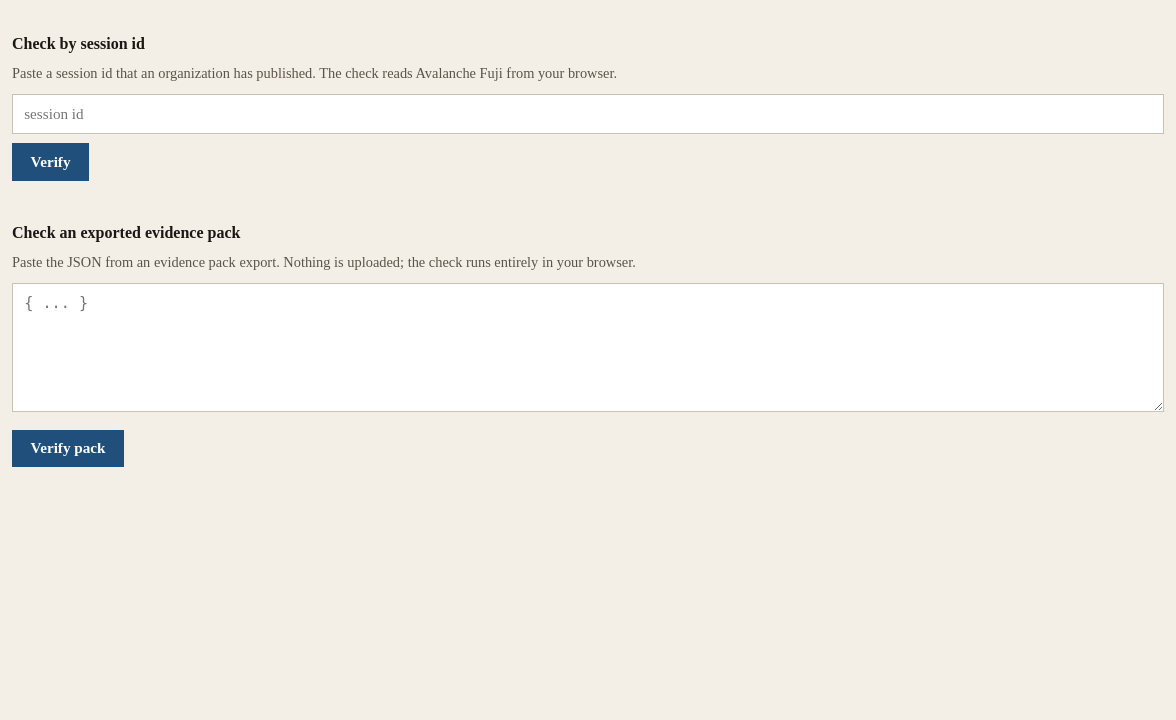
Test: VerifyClient › says it could not independently verify when nothing pins the contract, even though the bundle serves a valid-looking one
Type "s1" into the field labelled "Check by session id" at coordinates (588, 114), box [12, 94, 1164, 134]
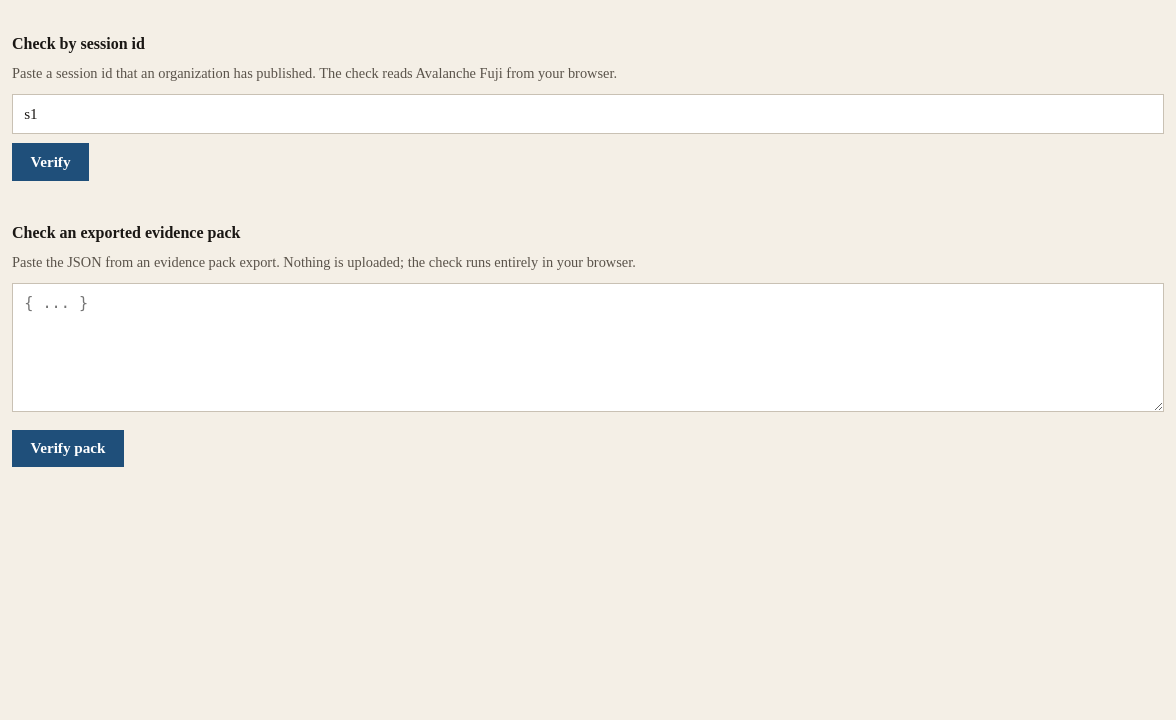
Click the button "Verify" at coordinates (51, 162), box [12, 143, 89, 181]
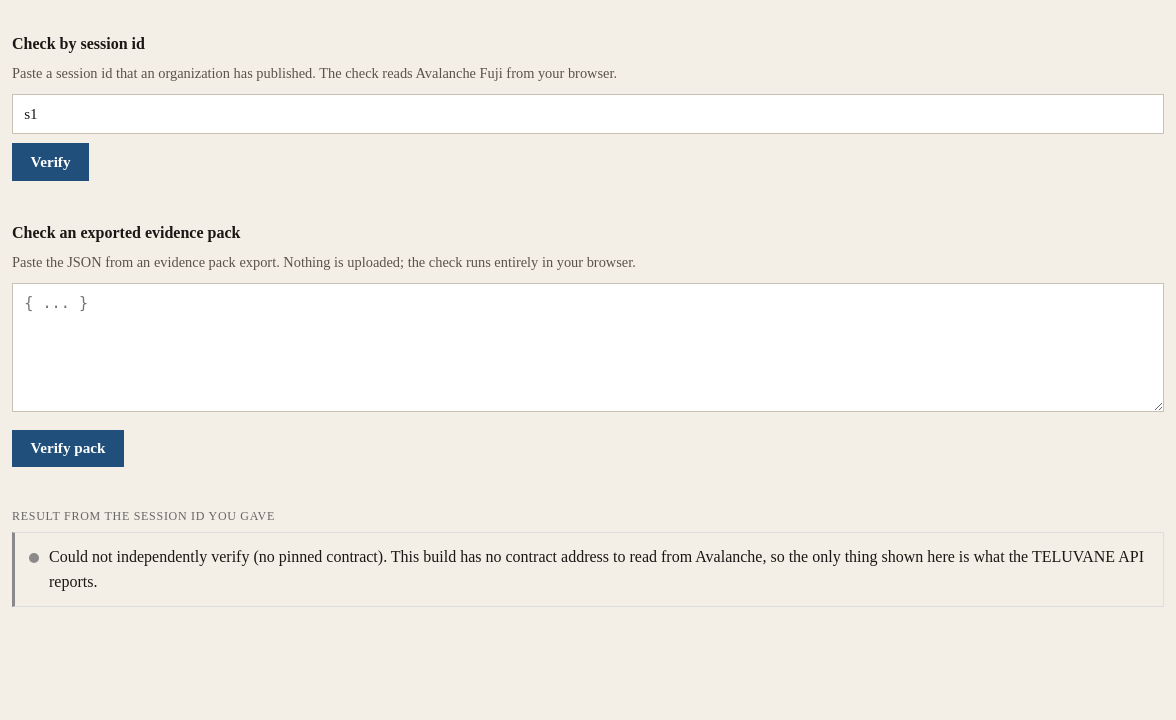
Expected: the text "no pinned contract" is shown, [49, 548, 1144, 590]
